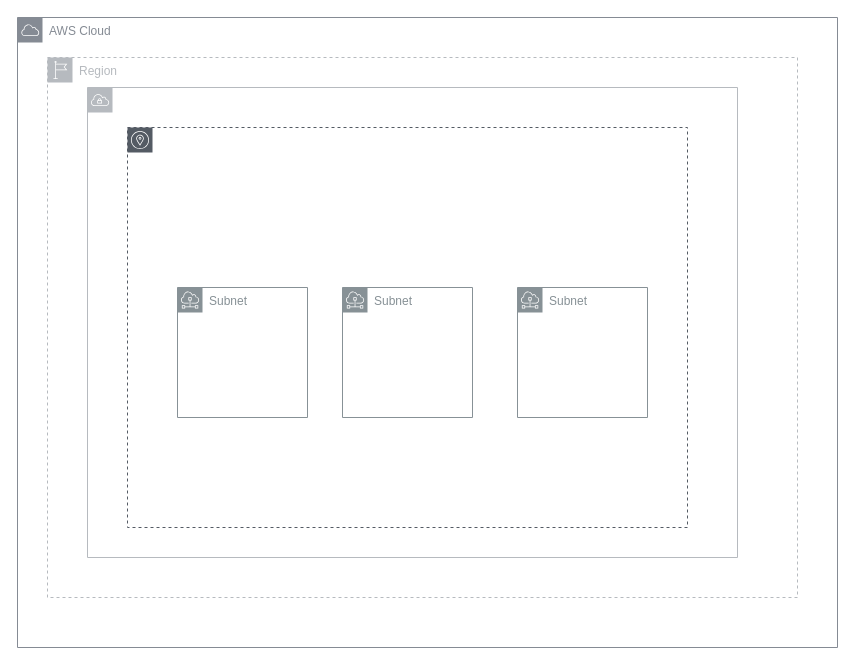
The diagram is 855 pixels wide and 665 high, and some of its shapes have lost their labels. Here are the shapes that lost their labels. From the top down, the box of each, then its label:
(126, 126, 688, 528): Availability zone
(86, 86, 738, 558): VPC
